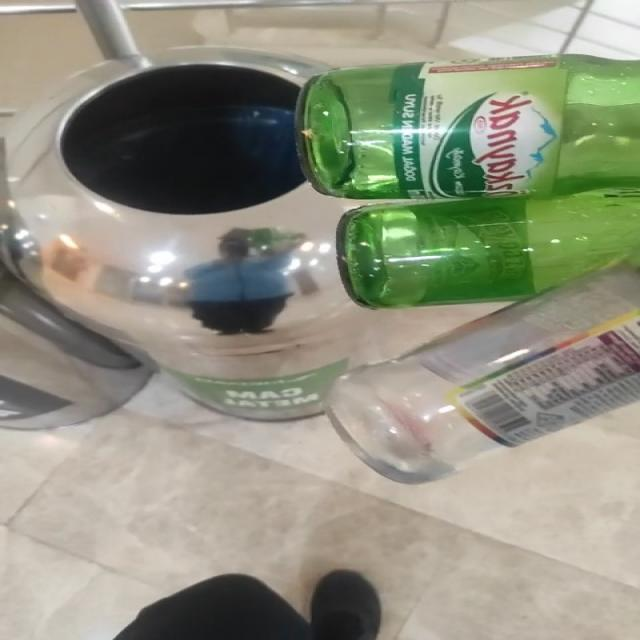Glass: (297, 54, 639, 484)
